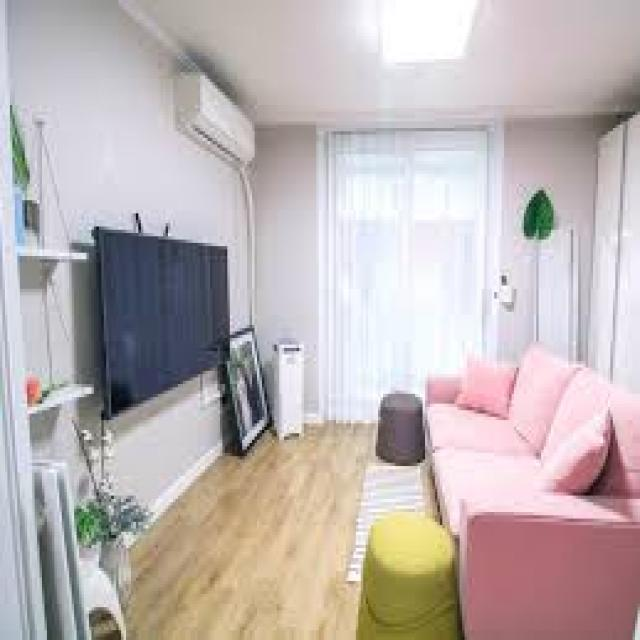Sofa: (427, 341, 640, 640)
tv: (93, 222, 234, 422)
window: (319, 127, 484, 387)
